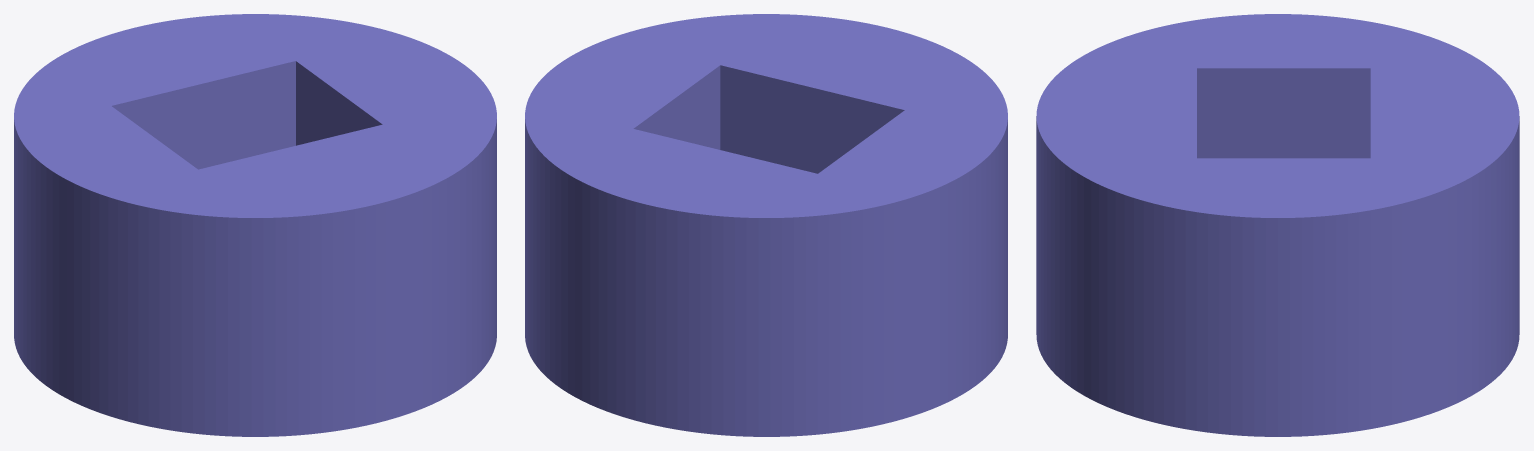
The model's file is joint4.dae.
3 renders of one model, left to right at view 1: azimuth 30°, elevation 25°; view 2: azimuth 150°, elevation 25°; view 3: azimuth 270°, elevation 25°, orthographic.
Parts seen in each view (by area): view 1: Link3_001; view 2: Link3_001; view 3: Link3_001.
Boxes of the visible parts, x1=… form: Link3_001: x1=14, y1=14, x2=496, y2=436; Link3_001: x1=525, y1=14, x2=1007, y2=436; Link3_001: x1=1036, y1=14, x2=1519, y2=436.
Bounding box in the file's own units: 0.1681 × 0.1681 × 0.084.
